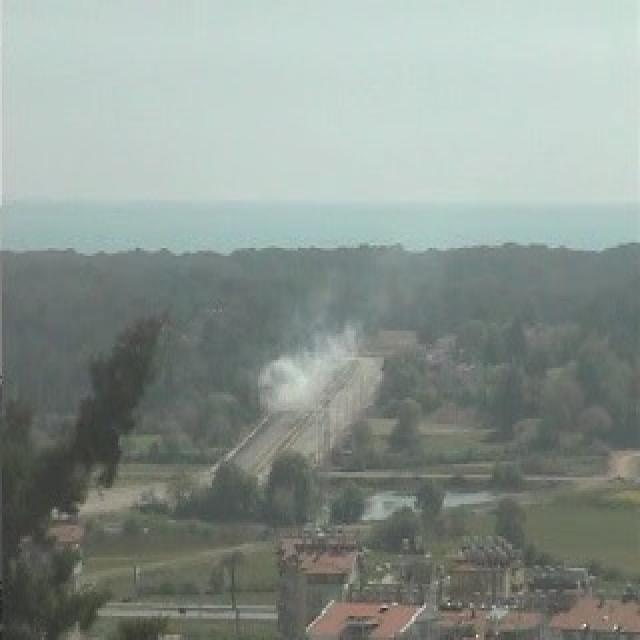Smoke: (256, 326, 358, 413)
